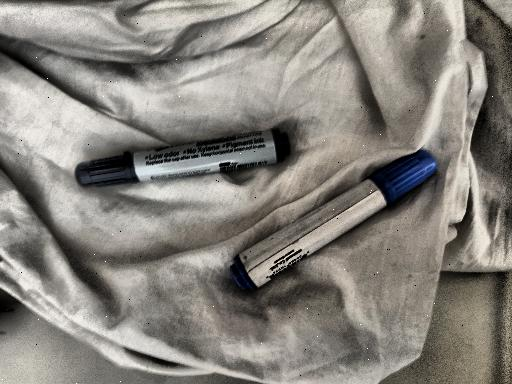marcador azul: (230, 150, 437, 290)
marcador negro: (75, 129, 290, 188)
